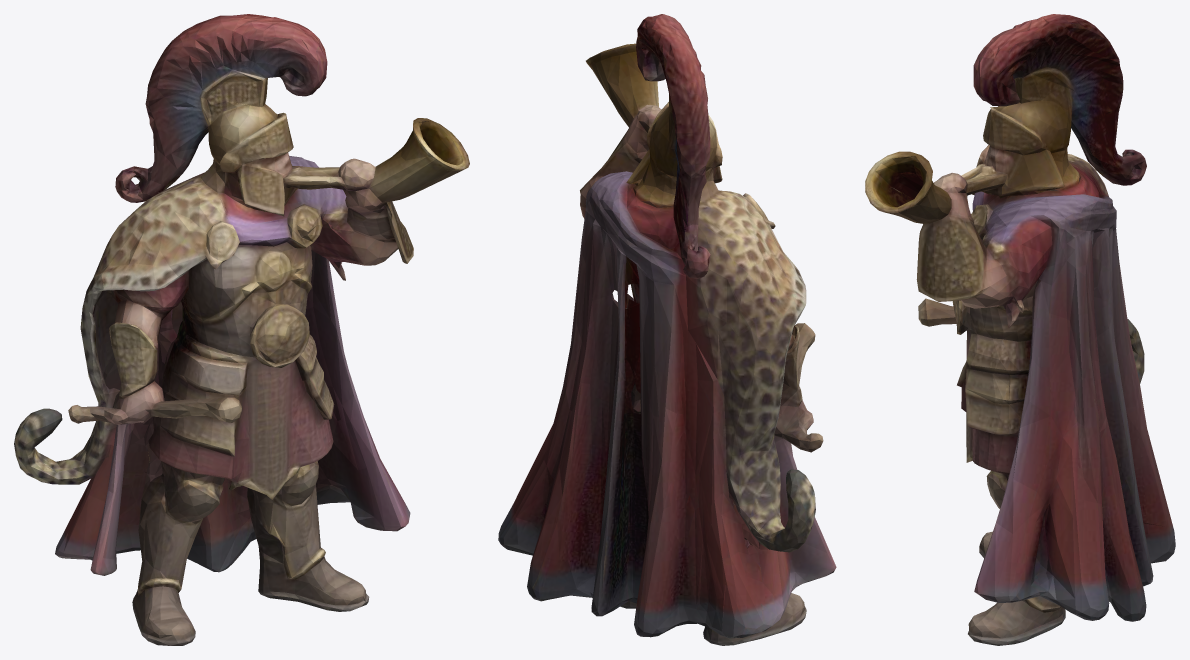
File: legionTribune.glb
3 views of the same model, side by side, from view 1: azimuth 30°, elevation 25°; view 2: azimuth 150°, elevation 25°; view 3: azimuth 270°, elevation 25° (orthographic).
Parts seen in each view (by area): view 1: world; view 2: world; view 3: world.
Boxes of the visible parts, x1,y1,x2,y2 form: world: [14, 14, 469, 645]; world: [498, 14, 836, 645]; world: [865, 14, 1175, 645].
Size of the model in its own units: 0.6024 by 0.9991 by 0.4831.
Materials: 1 (1 with a texture image).
